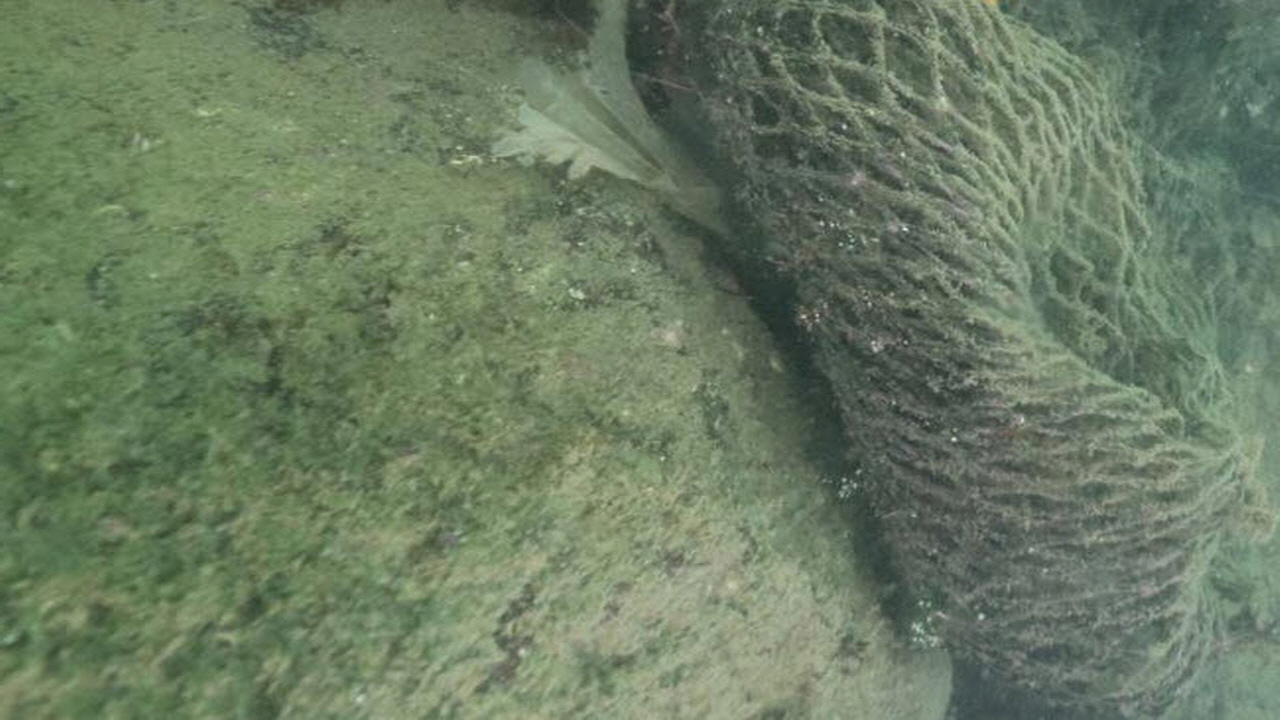fish net: (711, 0, 1254, 708)
